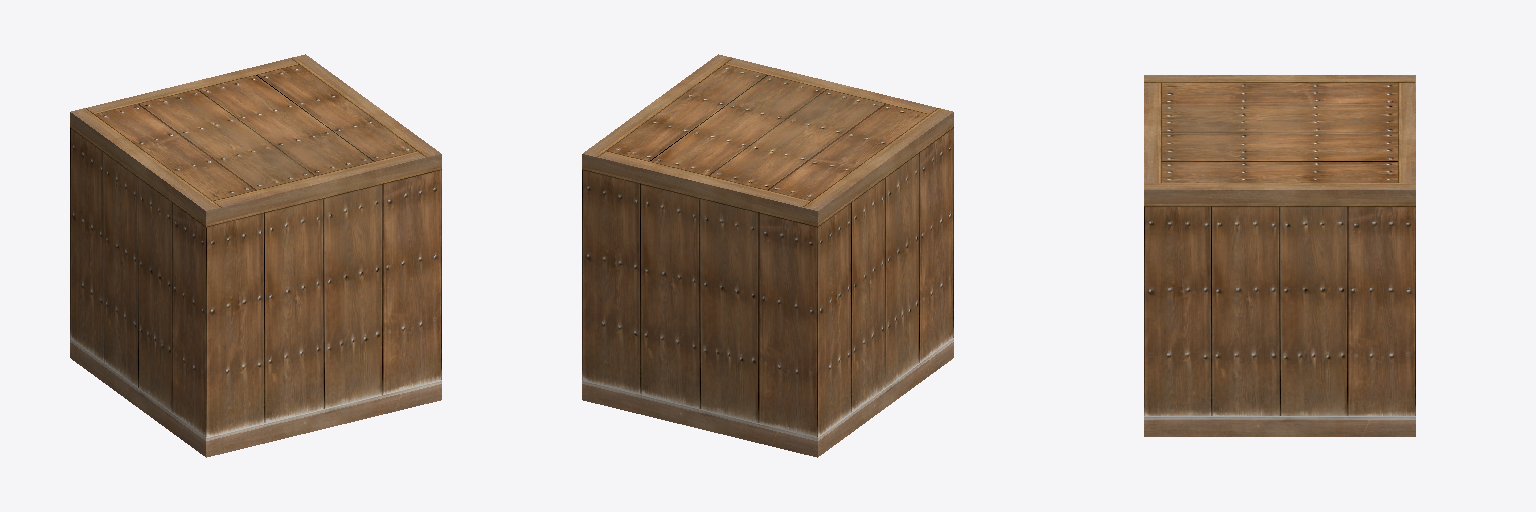
3 renders of one model, left to right at view 1: azimuth 30°, elevation 25°; view 2: azimuth 150°, elevation 25°; view 3: azimuth 270°, elevation 25°, orthographic.
Visible parts, largest first — view 1: Crate; view 2: Crate; view 3: Crate.
Boxes of the visible parts, <box> form: Crate: <box>70,54,441,457</box>; Crate: <box>582,54,953,457</box>; Crate: <box>1144,75,1415,436</box>.
Bounding box in the file's own units: 2 × 2 × 2.
Materials: 2 (2 with a texture image).